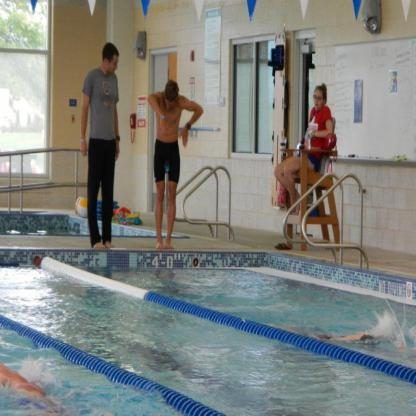face: (108, 57, 119, 74), (315, 91, 324, 108), (165, 96, 175, 110)
